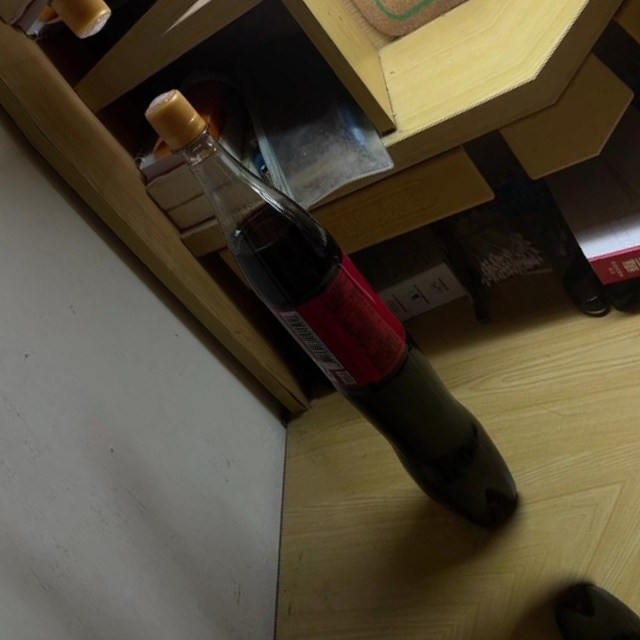Coca-Cola: (118, 69, 540, 546)
